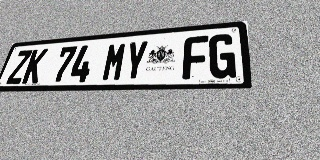4: (68, 45, 96, 82)
7: (50, 46, 78, 83)
F: (182, 35, 208, 79)
G: (209, 33, 236, 79)
K: (21, 48, 48, 84)
M: (101, 42, 128, 82)
Y: (122, 40, 149, 81)
Z: (6, 50, 33, 84)
